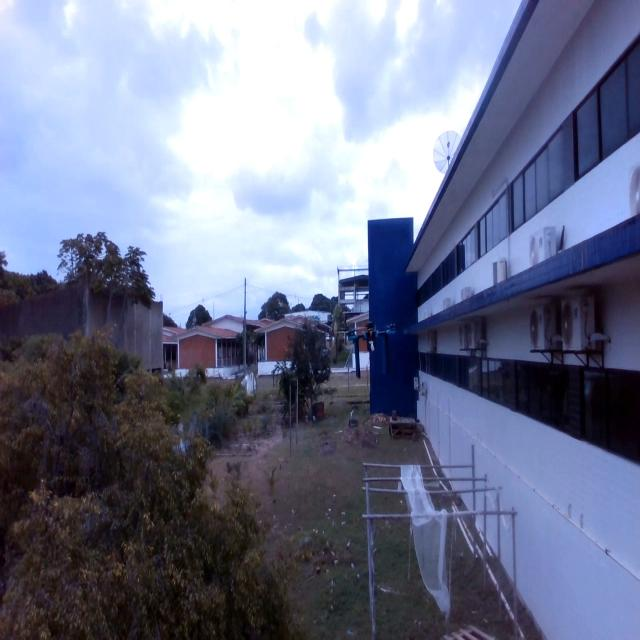-uav-: (335, 314, 407, 388)
